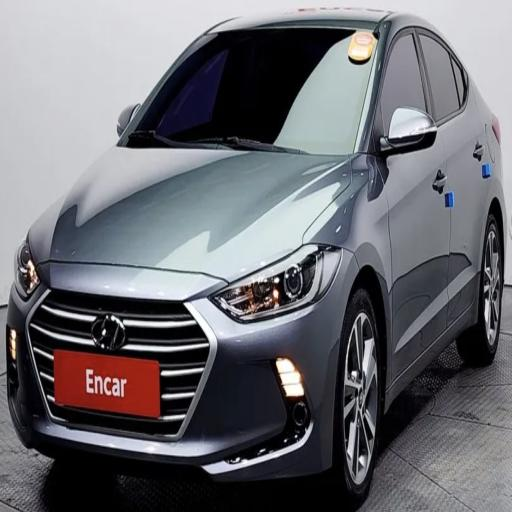normal: (15, 1, 512, 512)
